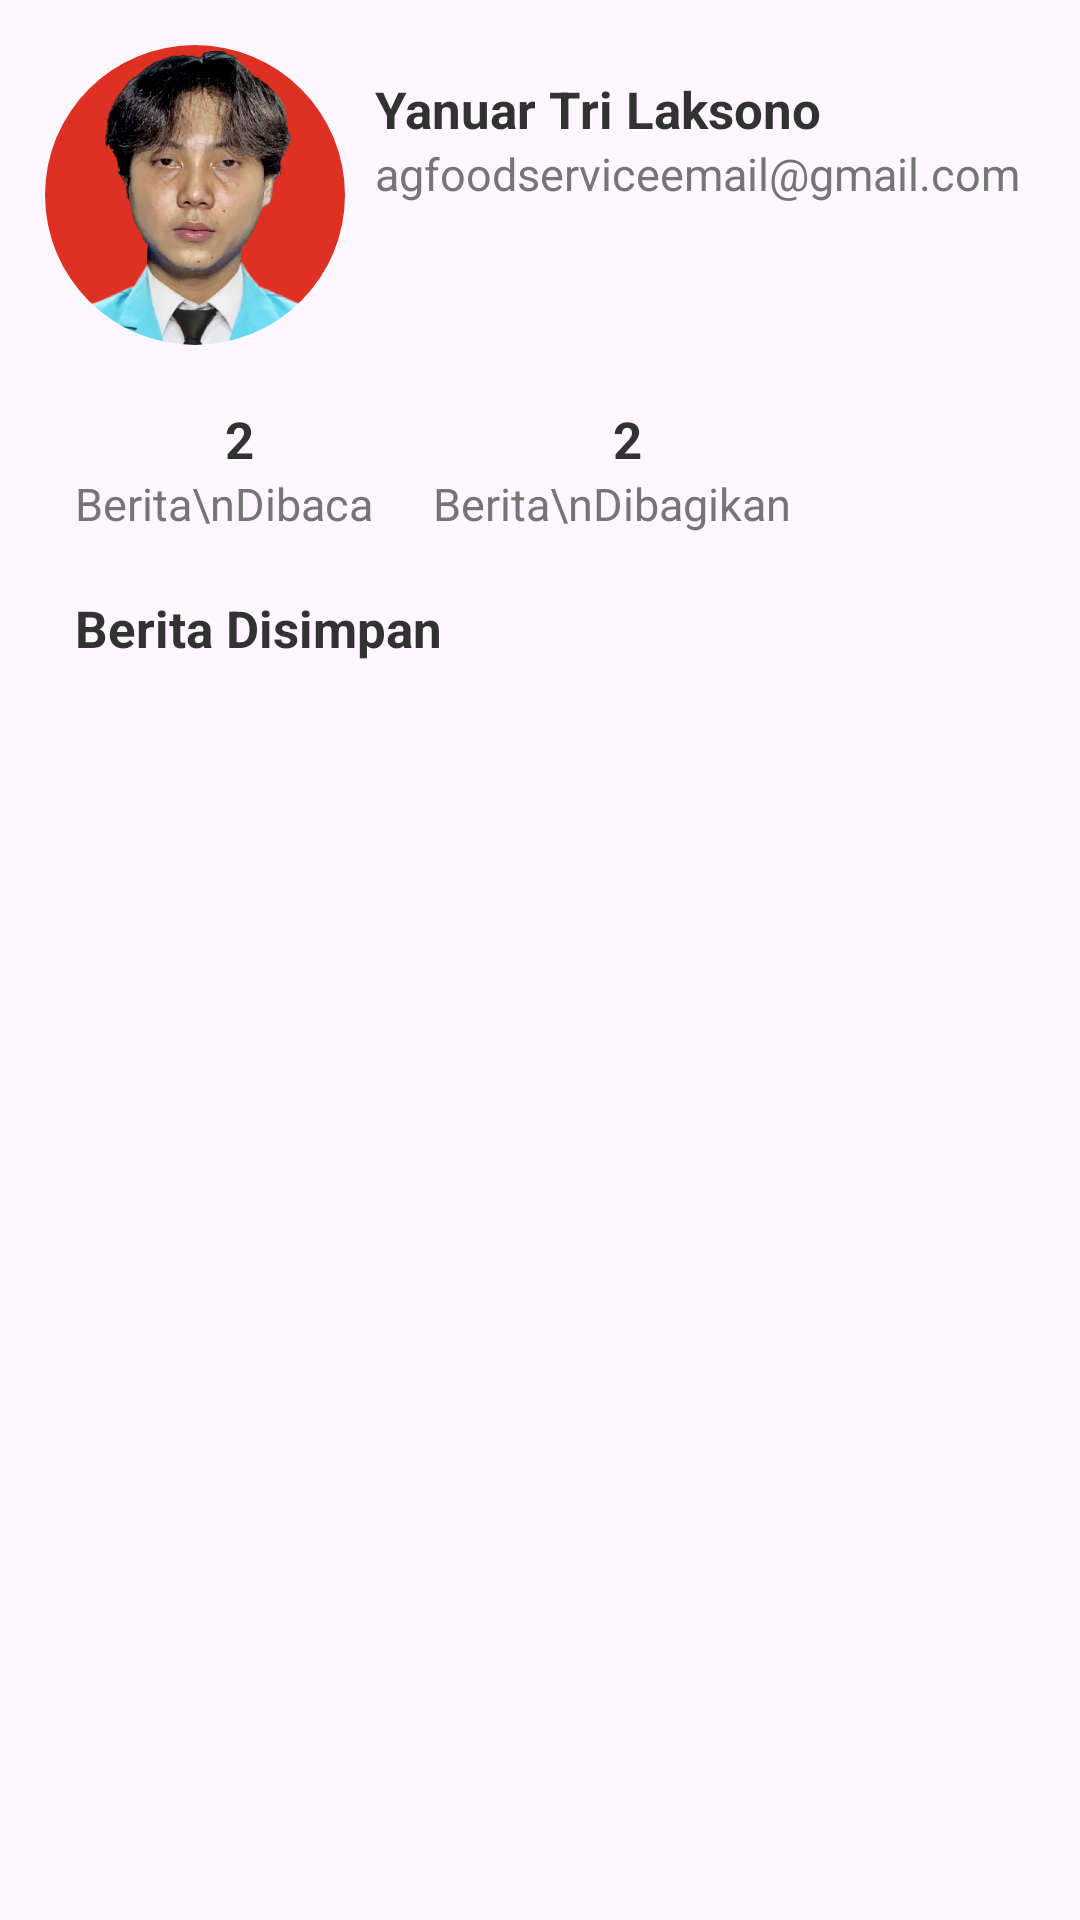

Where to tap for icons on this 1080 x 1920 app screen, as (x,y):
foto profile: (195,195)
